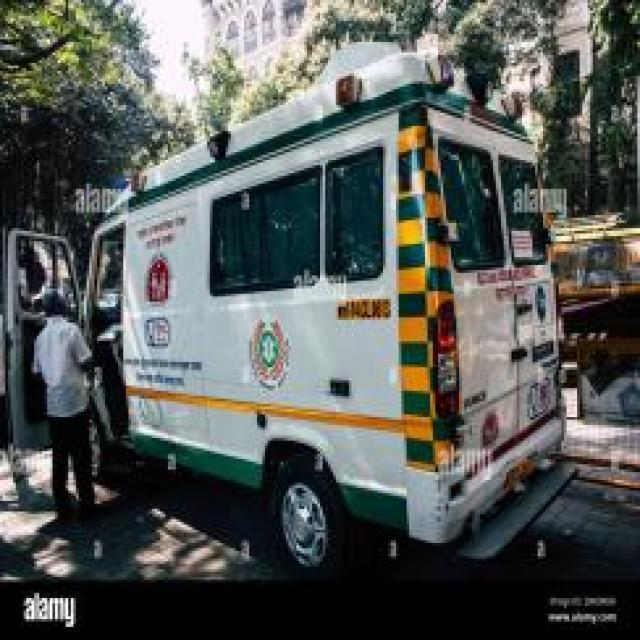Ambulance: (0, 31, 637, 582), (0, 364, 637, 585), (24, 283, 106, 525)
